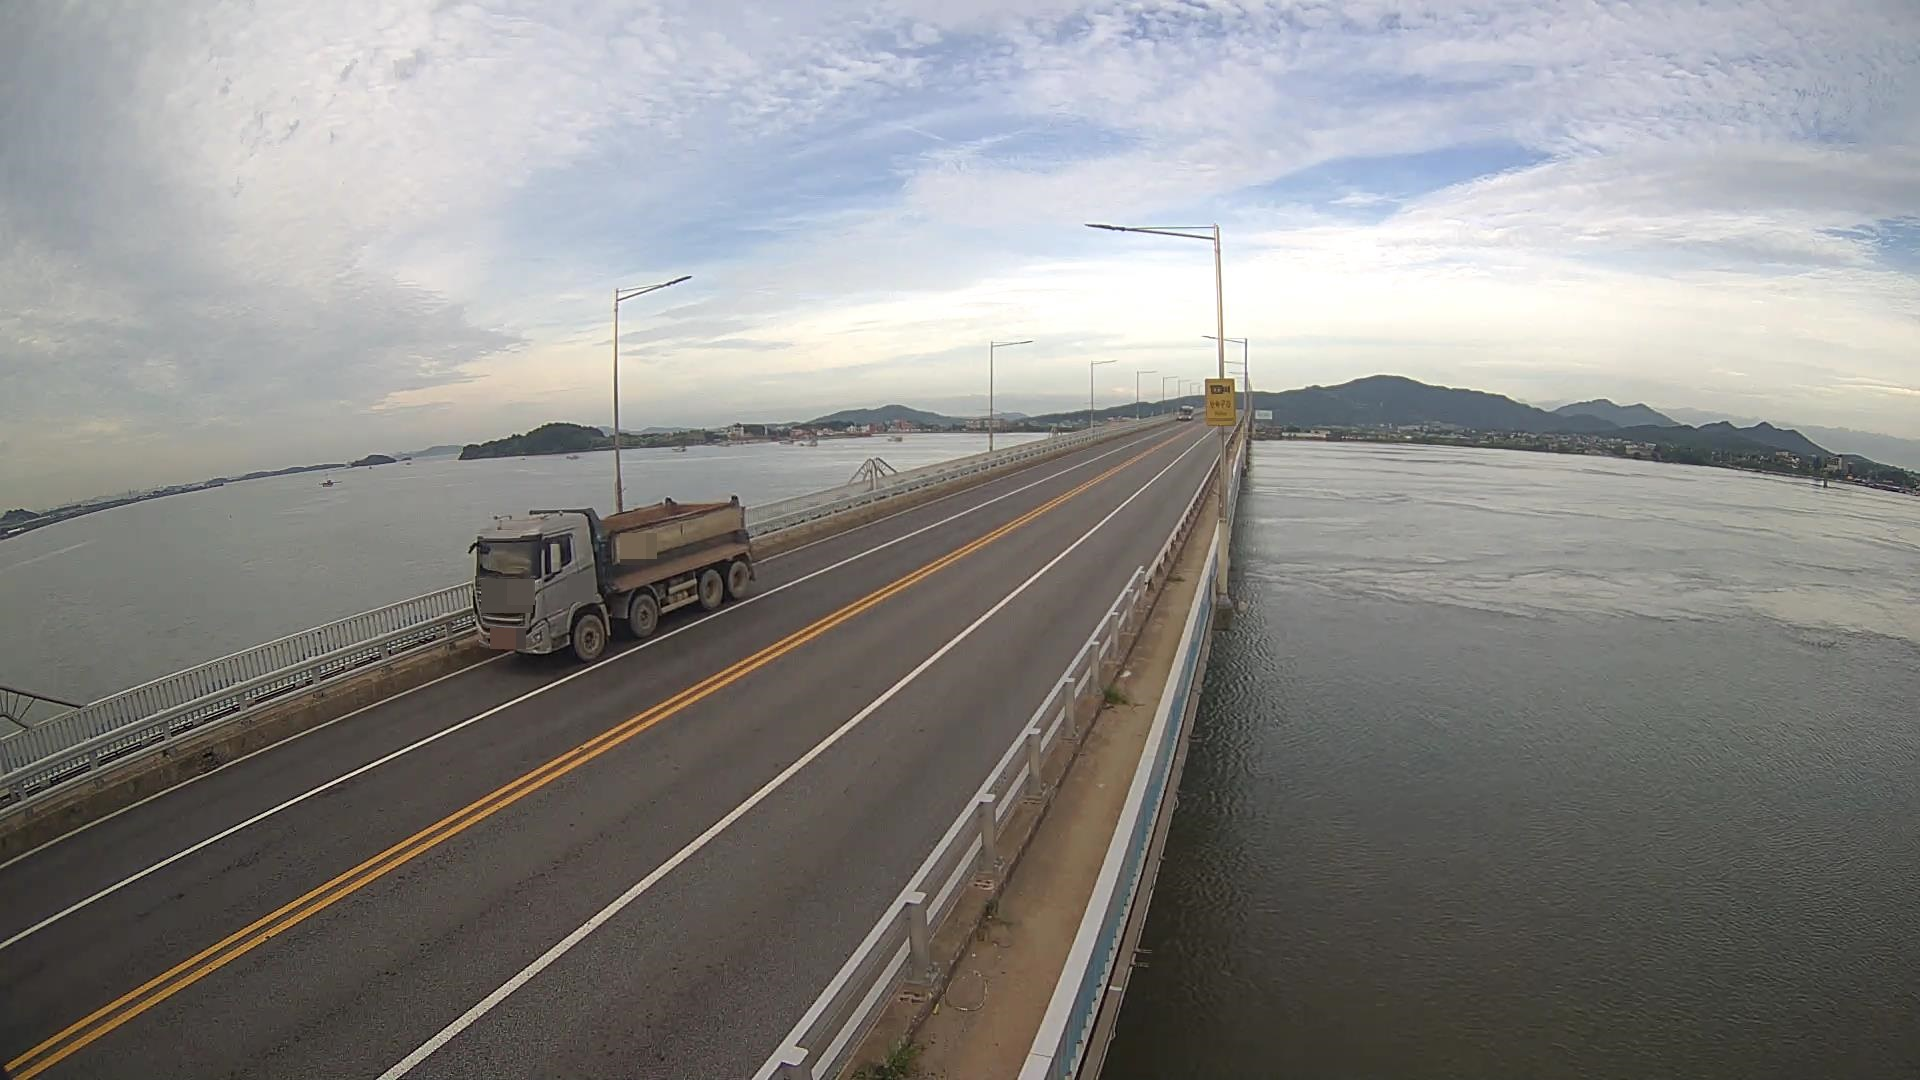정상차량: (469, 495, 757, 662)
